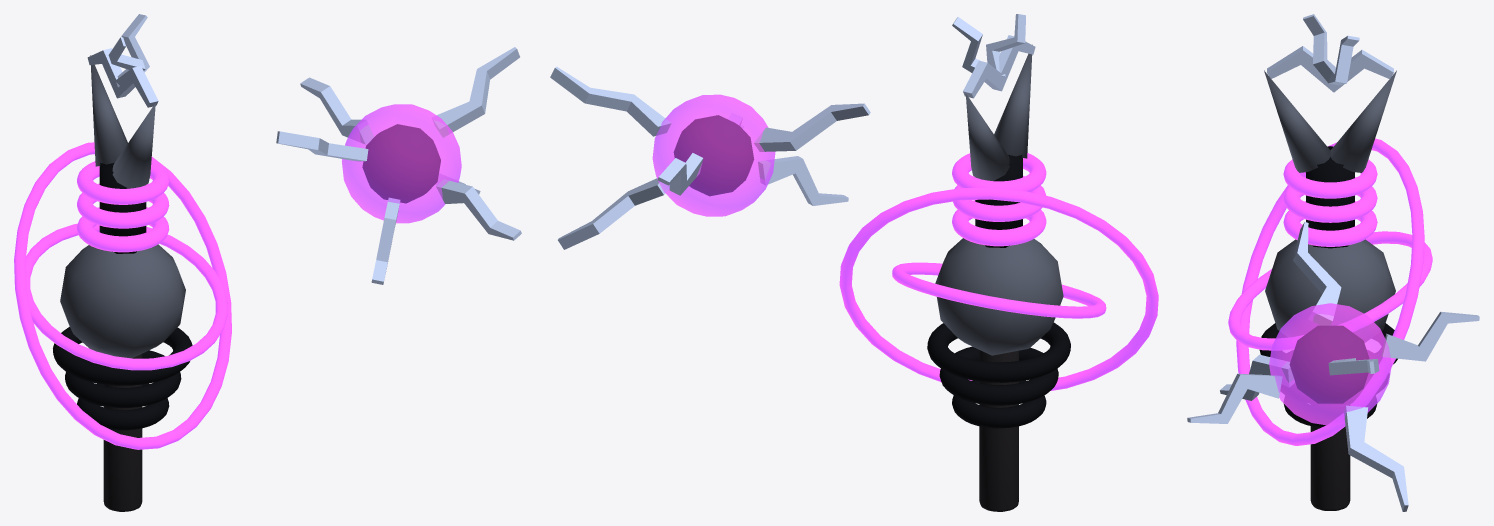
Rendered from Storm.fbx.
3 views of the same model, side by side, from view 1: azimuth 30°, elevation 25°; view 2: azimuth 150°, elevation 25°; view 3: azimuth 270°, elevation 25° (orthographic). The views are drawn at different scales.
Visible parts, largest first — view 1: Body, Accent_Glow, Orb_Glow; view 2: Body, Accent_Glow, Orb_Glow; view 3: Body, Accent_Glow, Orb_Glow.
Part boxes in pixels (x1=…): Body: x1=53, y1=55, x2=192, y2=511; Accent_Glow: x1=14, y1=14, x2=231, y2=449; Orb_Glow: x1=276, y1=47, x2=521, y2=284; Body: x1=927, y1=44, x2=1070, y2=511; Accent_Glow: x1=839, y1=14, x2=1158, y2=390; Orb_Glow: x1=550, y1=66, x2=870, y2=249; Body: x1=1259, y1=70, x2=1397, y2=510; Accent_Glow: x1=1228, y1=14, x2=1432, y2=445; Orb_Glow: x1=1187, y1=222, x2=1479, y2=511.
Size of the model in its own units: 3.12 by 2.61 by 1.43.
